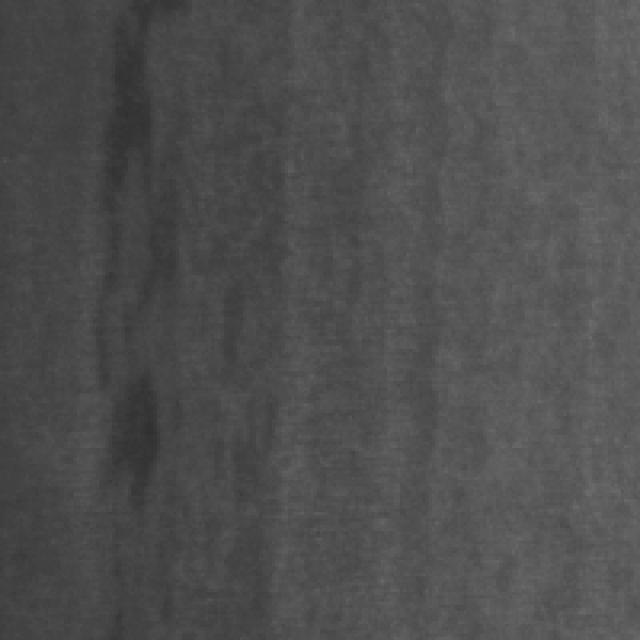inclusion: (90, 0, 172, 378), (106, 380, 166, 500)
